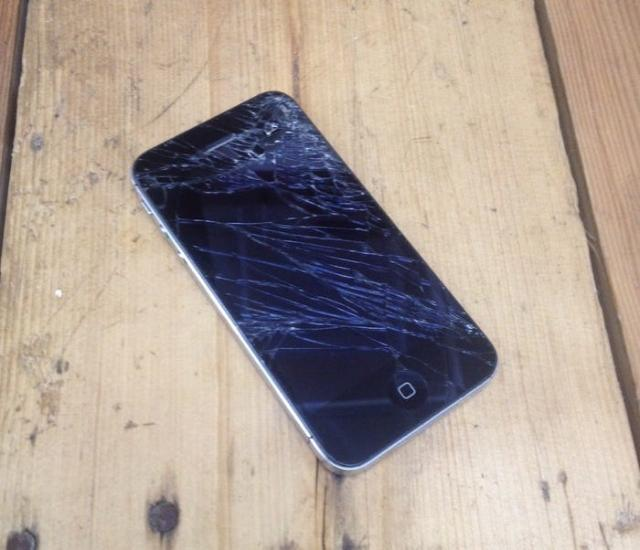Crack: (113, 86, 517, 492)
